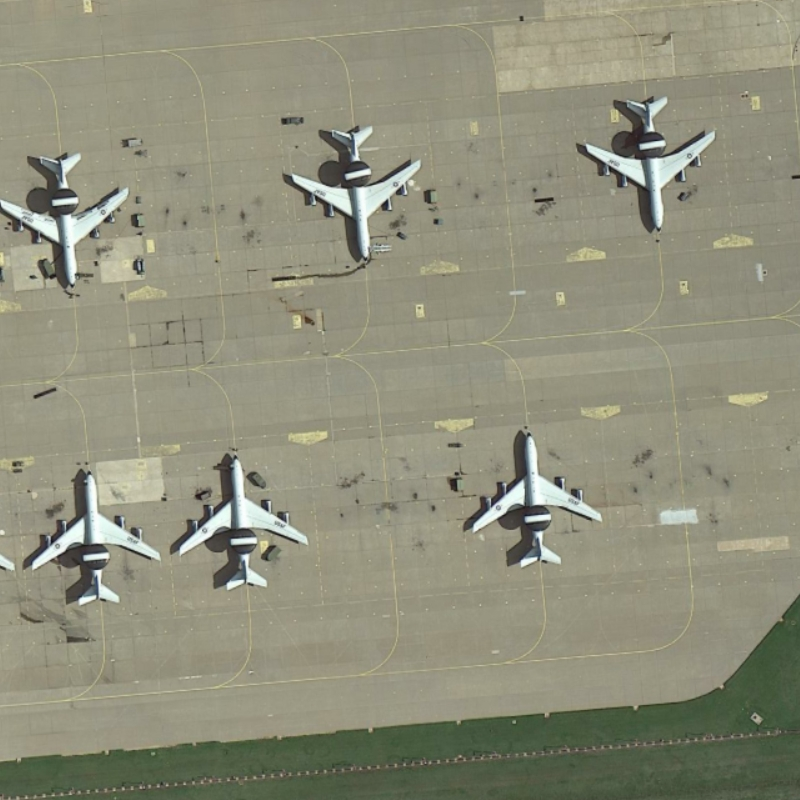A7: (281, 117, 430, 269), (17, 466, 170, 612), (576, 90, 722, 238), (171, 450, 315, 596), (1, 144, 139, 293), (464, 428, 603, 575)
